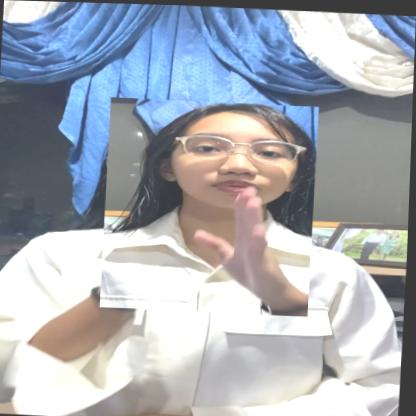Talk: (101, 96, 319, 315)
